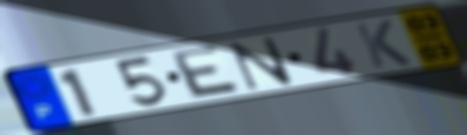1: (57, 66, 99, 119)
4: (310, 23, 360, 79)
5: (113, 53, 170, 110)
E: (169, 43, 246, 100)
K: (351, 18, 415, 70)
N: (226, 35, 296, 92)
